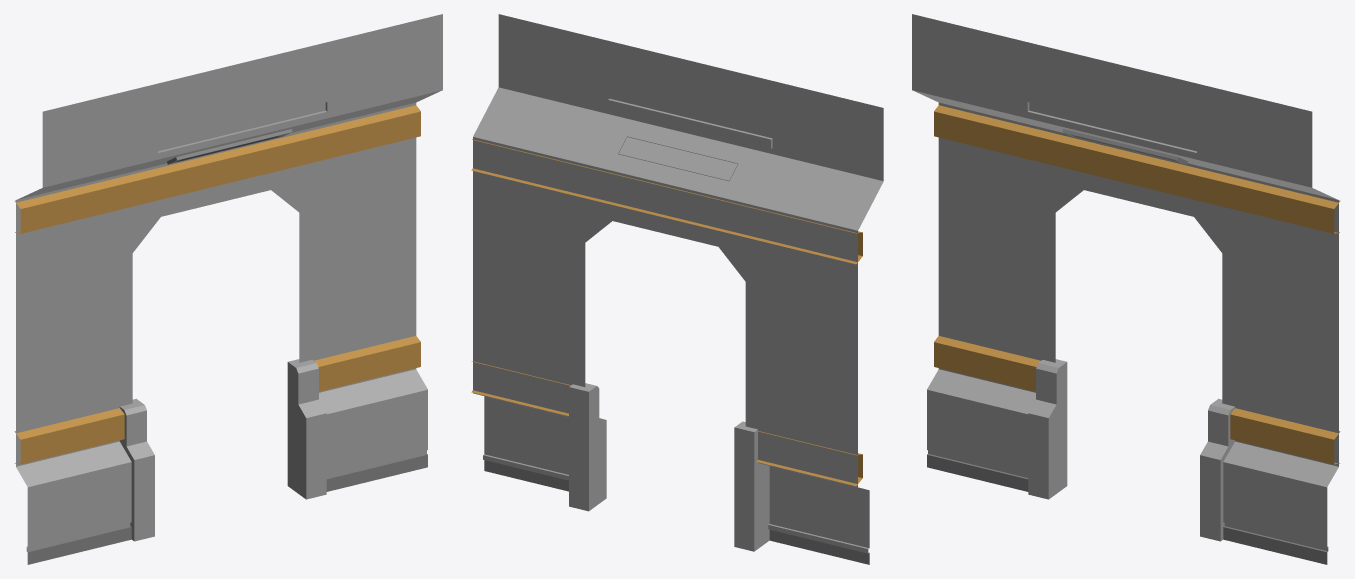
The model's file is DoorSingle_Wall_SideB.gltf.
3 views of the same model, side by side, from view 1: azimuth 30°, elevation 25°; view 2: azimuth 150°, elevation 25°; view 3: azimuth 330°, elevation 25° (orthographic). The views are drawn at different scales.
Visible parts, largest first — view 1: DoorSingle_Wall_SideB; view 2: DoorSingle_Wall_SideB; view 3: DoorSingle_Wall_SideB.
Boxes of the visible parts, <box> form: DoorSingle_Wall_SideB: <box>14,14,442,564</box>; DoorSingle_Wall_SideB: <box>471,14,883,564</box>; DoorSingle_Wall_SideB: <box>912,14,1340,564</box>.
Bounding box in the file's own units: 4 × 4.43 × 0.5307.
